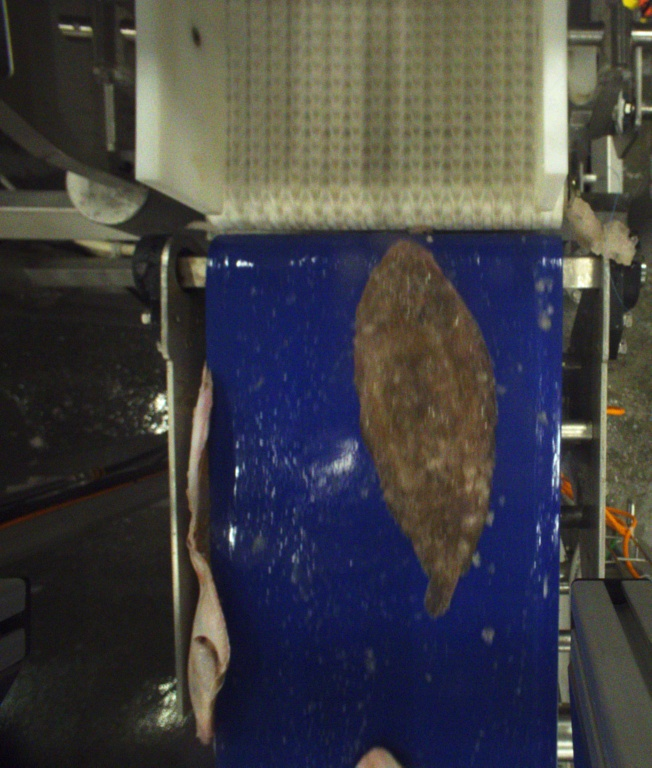SOL: (350, 238, 495, 616)
